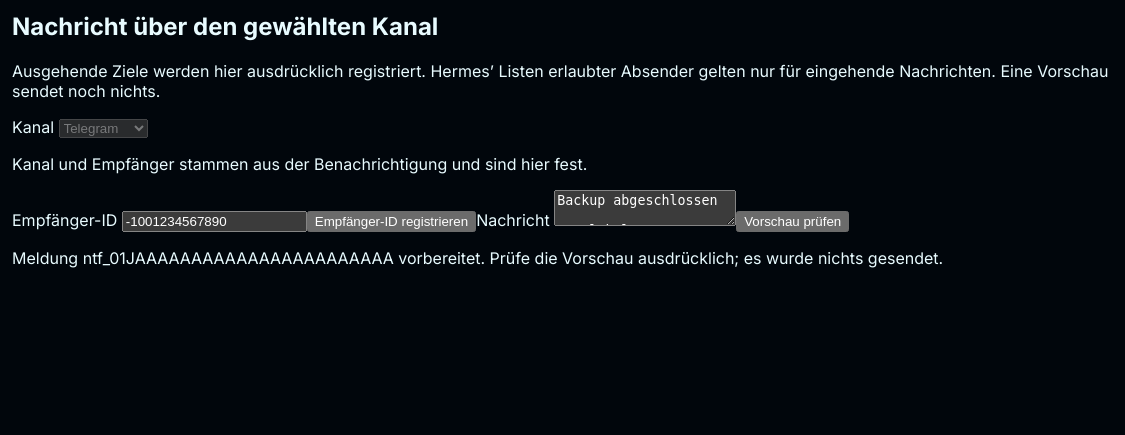
MessengerCompose alert handoff › hydrates an opaque notification reference and requires a fresh explicit preview
The width and height of the screenshot is (1125, 435).
Expected: the field labelled "Empfänger-ID" holds "-1001234567890", [122,211,307,232]
Expected: the message shows "es wurde nichts gesendet", [12,248,943,268]
What coordinates should you click on to do the following:
click the button "Vorschau prüfen"
I would click on:
 (793, 221)
Its box is [736,211,849,232].
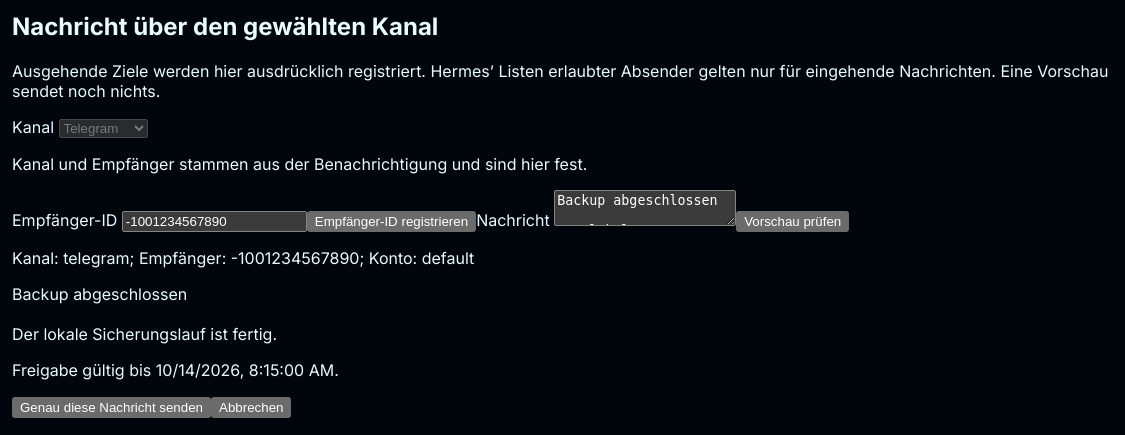
Expected: the element named "Versandfreigabe" is shown, [12,248,474,418]
